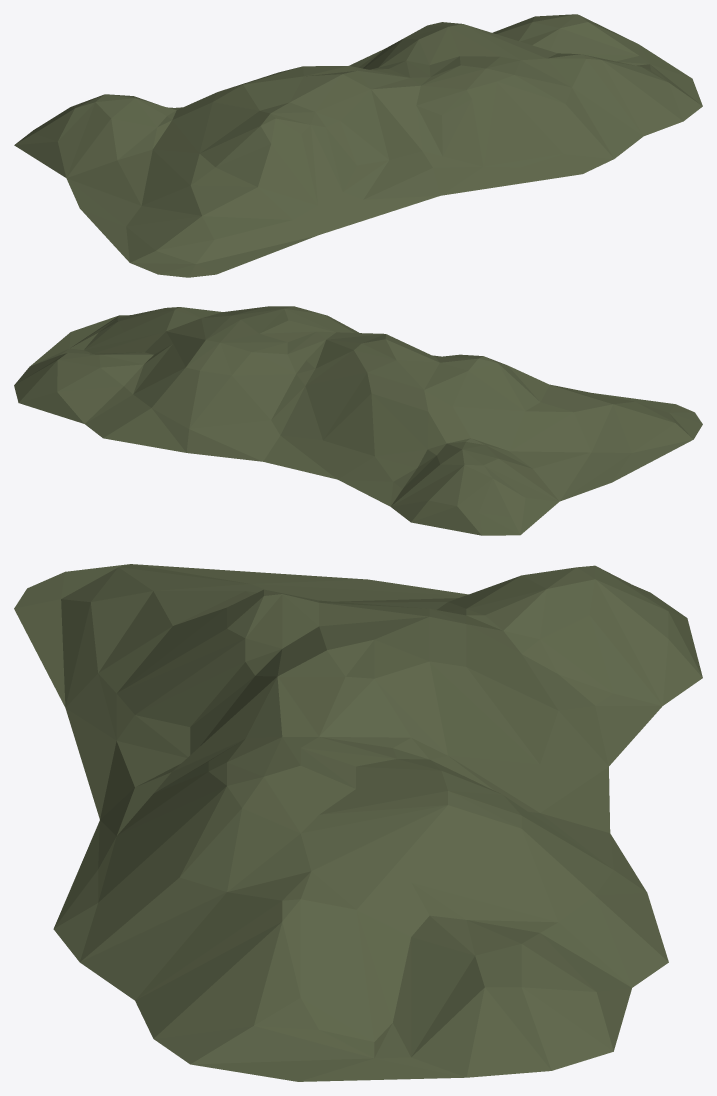
The model's file is SM_Generic_Mountains_Soft_01.fbx.
3 views of the same model, one above another, from view 1: azimuth 30°, elevation 25°; view 2: azimuth 150°, elevation 25°; view 3: azimuth 270°, elevation 25° (orthographic). The views are drawn at different scales.
Visible parts, largest first — view 1: SM_Generic_Mountains_Soft_01; view 2: SM_Generic_Mountains_Soft_01; view 3: SM_Generic_Mountains_Soft_01.
Boxes of the visible parts, left/top/right/bottom form: SM_Generic_Mountains_Soft_01: left=14, top=14, right=702, bottom=277; SM_Generic_Mountains_Soft_01: left=14, top=306, right=702, bottom=535; SM_Generic_Mountains_Soft_01: left=14, top=564, right=702, bottom=1081.
Size of the model in its own units: 3908 by 500 by 2197.
